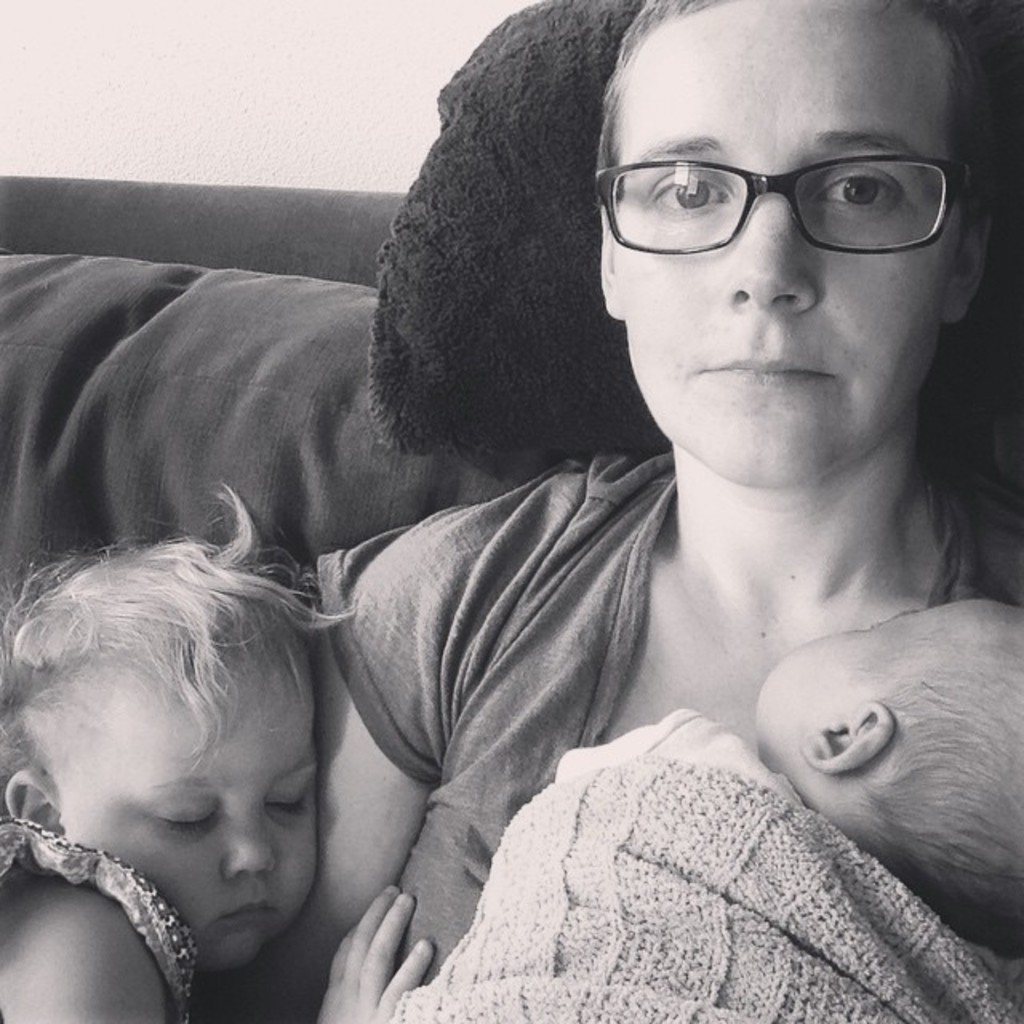Human_hand: (325, 874, 437, 1013)
